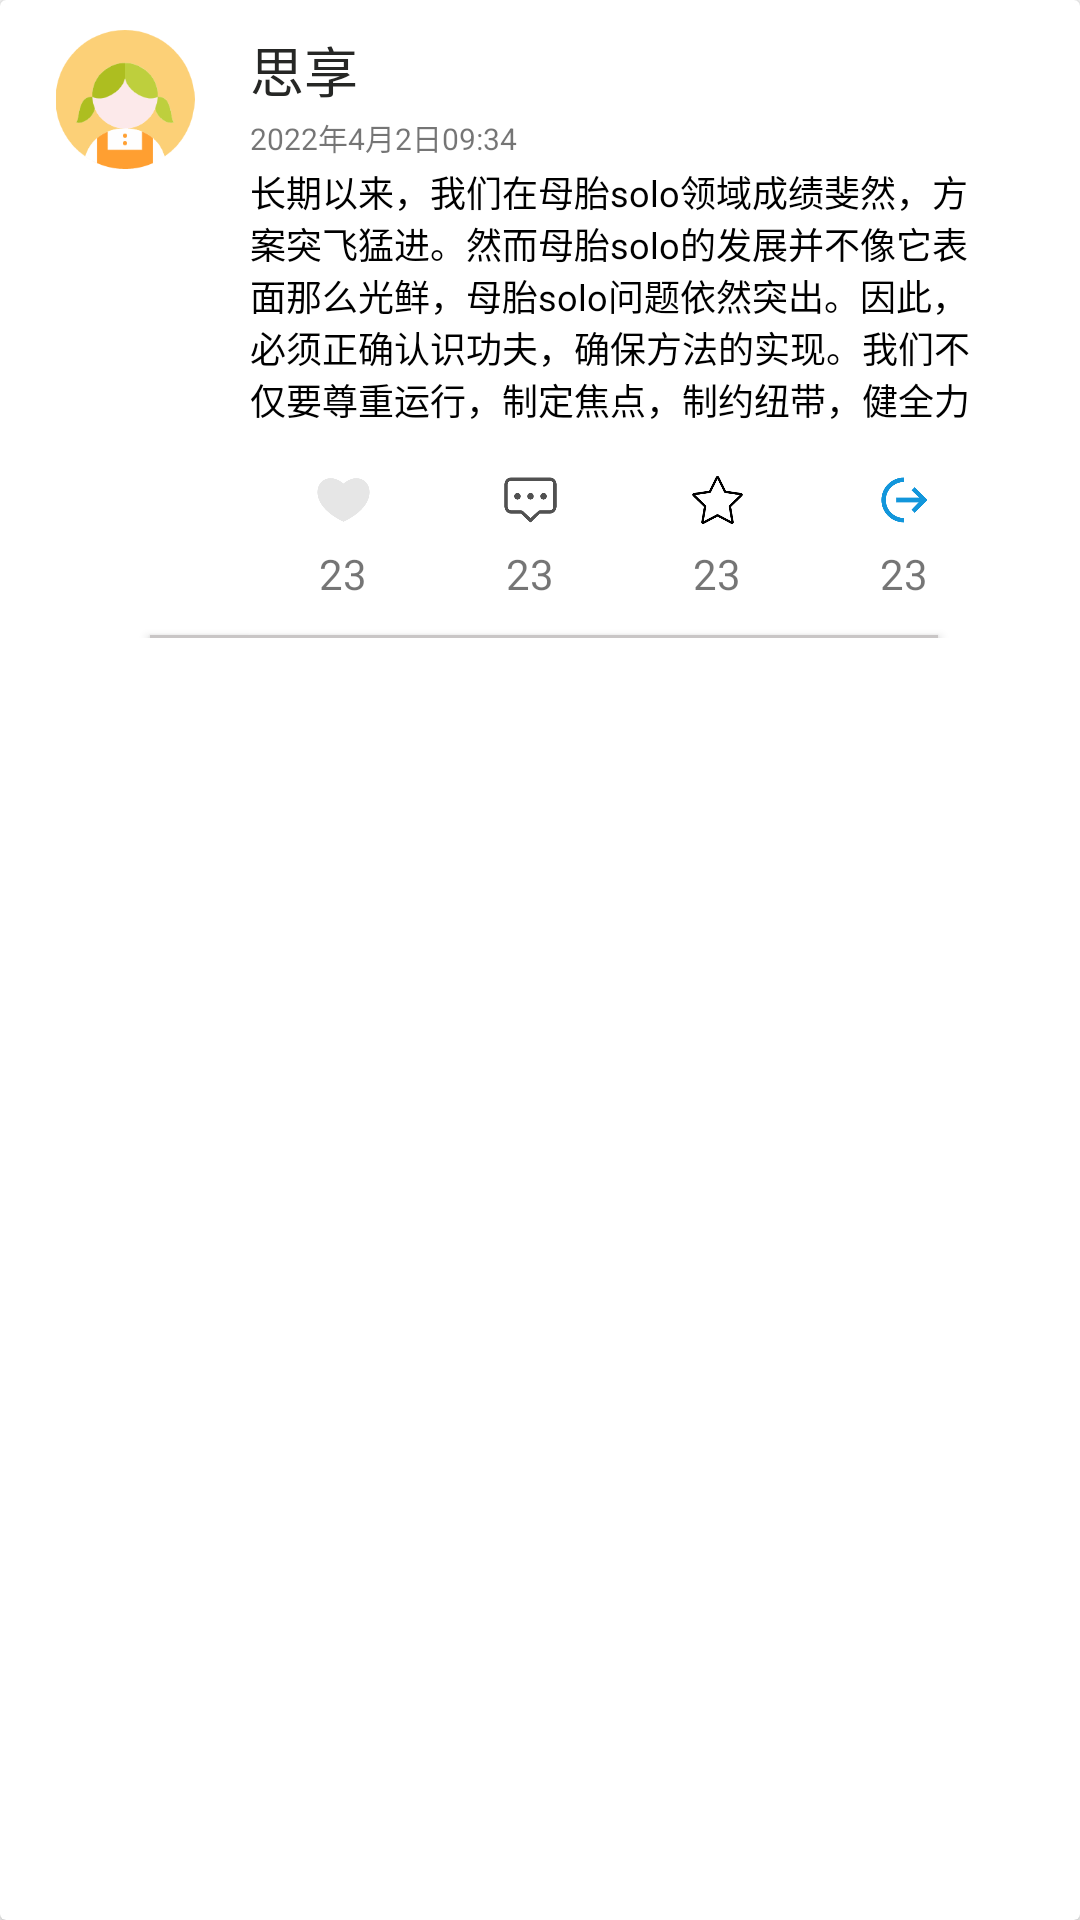

Icons on this 1080 × 1920 Android screen, each with the point to tap as (x=x, y=y):
collect no: (x=717, y=500)
comment: (x=530, y=500)
girl: (x=125, y=99)
praised no: (x=343, y=500)
share: (x=904, y=500)
